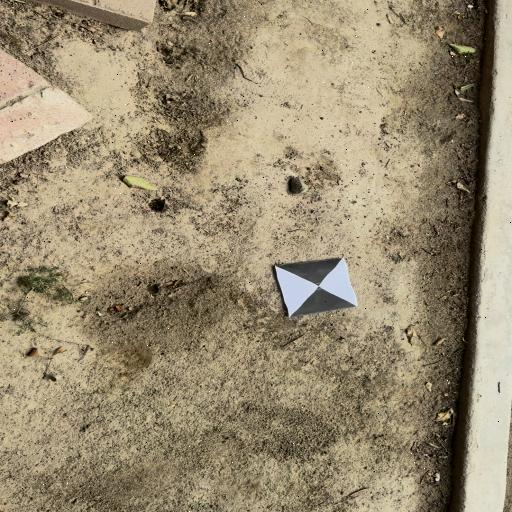target: (277, 259, 358, 317)
